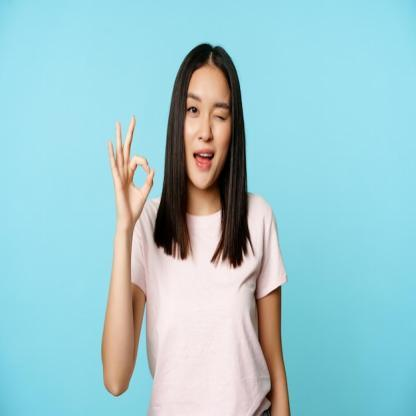ok: (105, 112, 162, 234)
